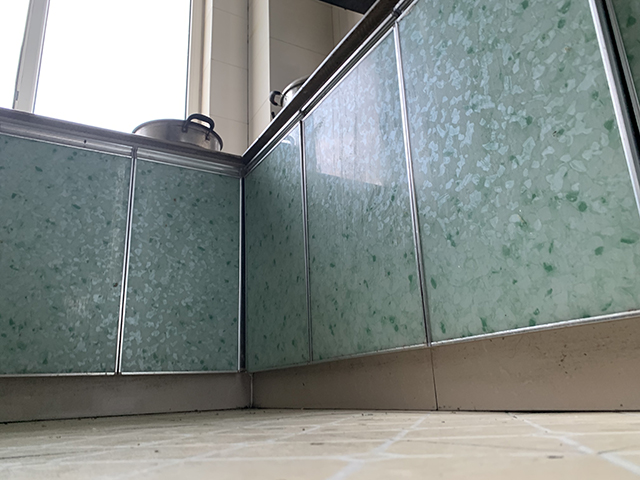cabinet: (246, 1, 637, 413), (1, 107, 243, 411)
